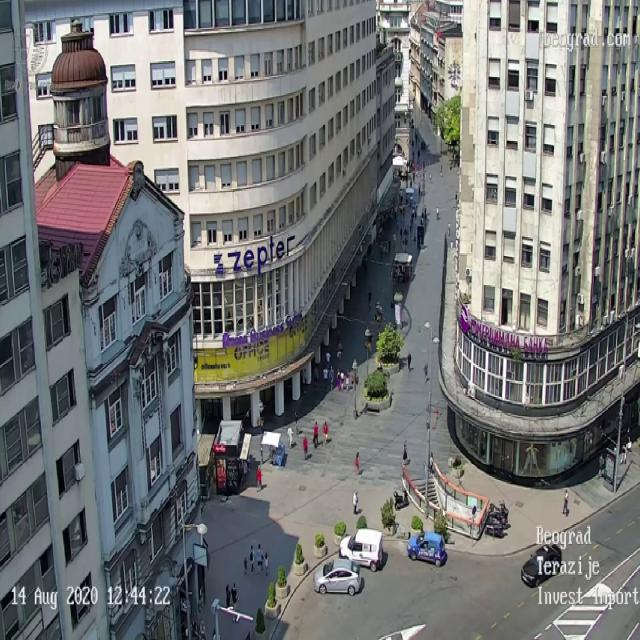car: (336, 529, 382, 570), (521, 542, 561, 588), (313, 558, 361, 596), (406, 530, 447, 567)
